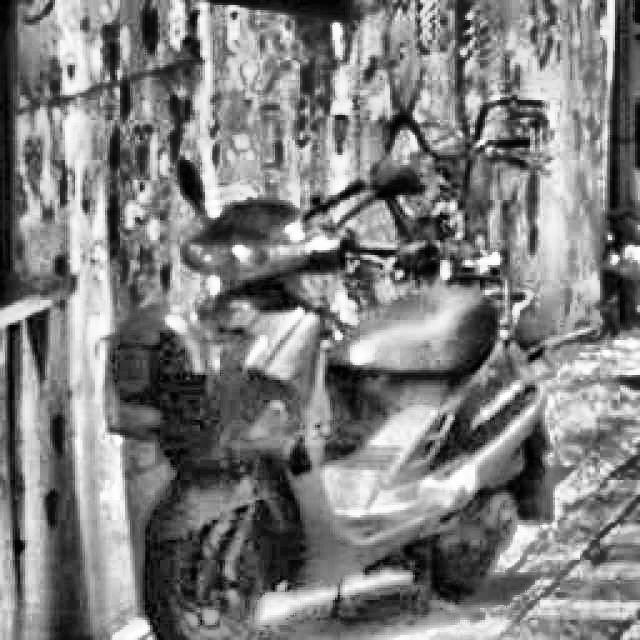motorcycle: (55, 160, 556, 640), (300, 83, 546, 331)
